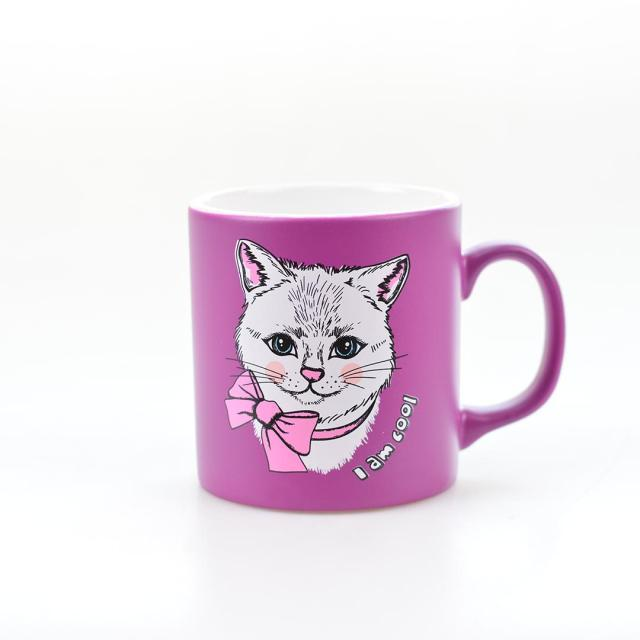Coffee Mug: (185, 178, 567, 516)
